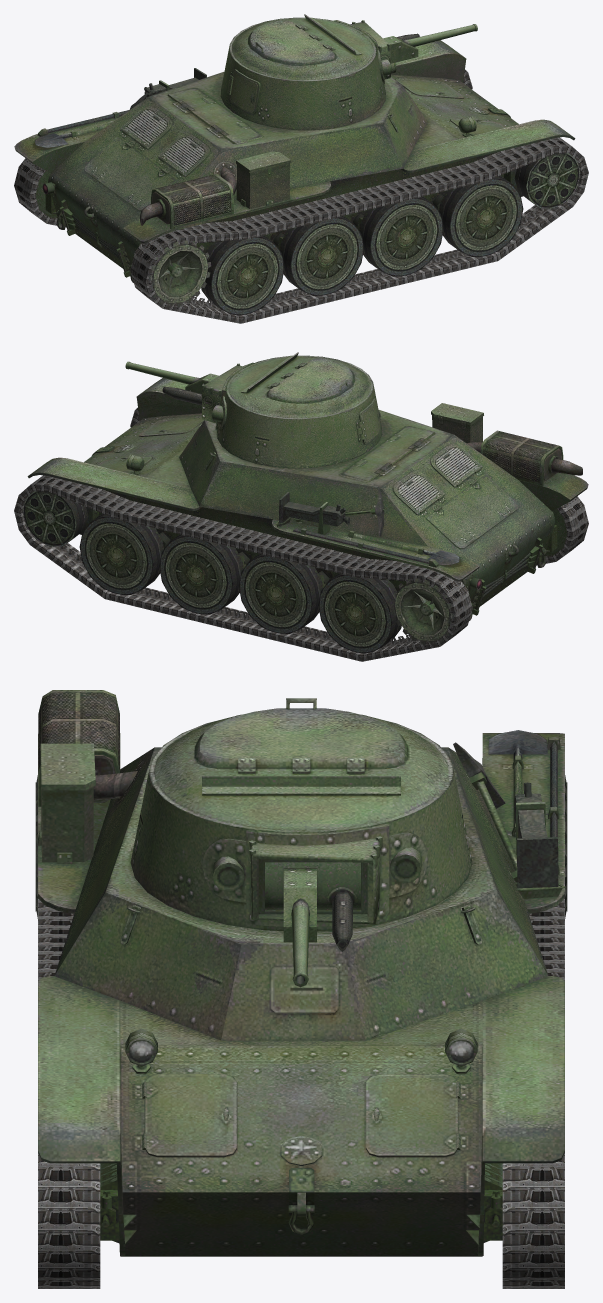
The picture shows the model from 3 angles, top to bottom: view 1: azimuth 30°, elevation 25°; view 2: azimuth 150°, elevation 25°; view 3: azimuth 270°, elevation 25°; orthographic projection. The views are drawn at different scales.
Visible parts, largest first — view 1: 1_hull_batch_0, 1_chassis_track_R_batch_0, 1_turret_01_batch_0, 1_chassis_wheel_R_02_batch_0, 1_chassis_wheel_R_03_batch_0, 1_chassis_wheel_R_04_batch_0, 1_chassis_wheel_R_05_batch_0, 1_chassis_wheel_R_06_batch_0, 1_chassis_wheel_R_01_batch_0, 1_chassis_track_L_batch_0, 1_gun_01_batch_0; view 2: 1_hull_batch_0, 1_turret_01_batch_0, 1_chassis_track_L_batch_0, 1_chassis_wheel_L_02_batch_0, 1_chassis_wheel_L_03_batch_0, 1_chassis_wheel_L_04_batch_0, 1_chassis_wheel_L_05_batch_0, 1_chassis_wheel_L_06_batch_0, 1_chassis_wheel_L_01_batch_0, 1_chassis_track_R_batch_0, 1_gun_01_batch_0, 1_chassis_wheel_R_06_batch_0; view 3: 1_hull_batch_0, 1_turret_01_batch_0, 1_chassis_track_L_batch_0, 1_chassis_track_R_batch_0, 1_gun_01_batch_0.
Part boxes in pixels (x1,y1,x2,y2): 1_hull_batch_0: (14, 40, 575, 282); 1_chassis_track_R_batch_0: (130, 137, 588, 323); 1_turret_01_batch_0: (220, 14, 391, 130); 1_chassis_wheel_R_02_batch_0: (439, 175, 523, 256); 1_chassis_wheel_R_03_batch_0: (359, 196, 443, 276); 1_chassis_wheel_R_04_batch_0: (279, 216, 364, 295); 1_chassis_wheel_R_05_batch_0: (201, 235, 284, 315); 1_chassis_wheel_R_06_batch_0: (148, 240, 211, 307); 1_chassis_wheel_R_01_batch_0: (514, 153, 580, 208); 1_chassis_track_L_batch_0: (14, 69, 472, 227); 1_gun_01_batch_0: (383, 24, 477, 63); 1_hull_batch_0: (27, 378, 588, 620); 1_turret_01_batch_0: (202, 352, 382, 468); 1_chassis_track_L_batch_0: (14, 475, 472, 661); 1_chassis_wheel_L_02_batch_0: (79, 513, 163, 594); 1_chassis_wheel_L_03_batch_0: (159, 534, 243, 614); 1_chassis_wheel_L_04_batch_0: (238, 554, 322, 633); 1_chassis_wheel_L_05_batch_0: (318, 573, 401, 653); 1_chassis_wheel_L_06_batch_0: (391, 578, 454, 645); 1_chassis_wheel_L_01_batch_0: (22, 491, 88, 546); 1_chassis_track_R_batch_0: (130, 407, 588, 565); 1_gun_01_batch_0: (125, 361, 218, 405); 1_chassis_wheel_R_06_batch_0: (545, 509, 567, 556); 1_hull_batch_0: (38, 690, 565, 1256); 1_turret_01_batch_0: (130, 698, 472, 931); 1_chassis_track_L_batch_0: (502, 898, 564, 1288); 1_chassis_track_R_batch_0: (38, 898, 100, 1288); 1_gun_01_batch_0: (265, 862, 360, 987).
Size of the model in its own units: 4.14 by 1.87 by 2.14.
Materials: 2 (2 with a texture image).
